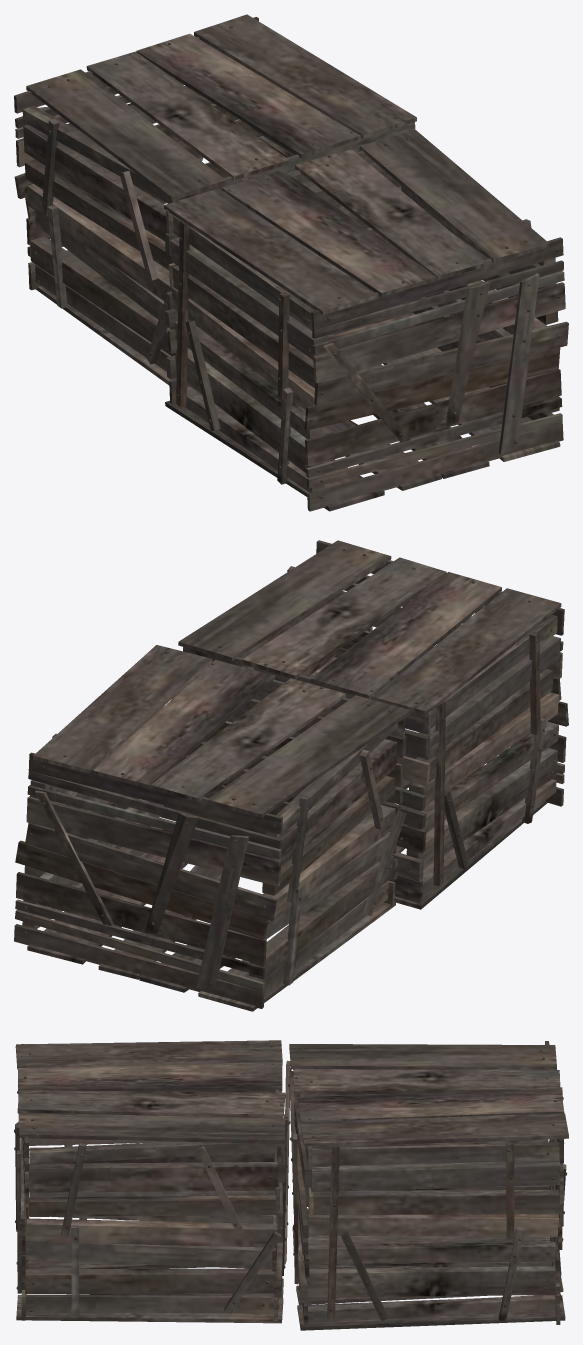
The model's file is ti_crate.glb.
The picture shows the model from 3 angles, top to bottom: view 1: azimuth 30°, elevation 25°; view 2: azimuth 150°, elevation 25°; view 3: azimuth 270°, elevation 25°; orthographic projection. The views are drawn at different scales.
Visible parts, largest first — view 1: KB3D_TIS_Ship_A_CrateC; view 2: KB3D_TIS_Ship_A_CrateC; view 3: KB3D_TIS_Ship_A_CrateC.
Boxes of the visible parts, x1,y1,x2,y2 form: KB3D_TIS_Ship_A_CrateC: (14,14,568,511); KB3D_TIS_Ship_A_CrateC: (14,540,568,1011); KB3D_TIS_Ship_A_CrateC: (14,1040,568,1330).
Size of the model in its own units: 0.8836 by 0.6508 by 1.68.
Materials: 2 (2 with a texture image).
